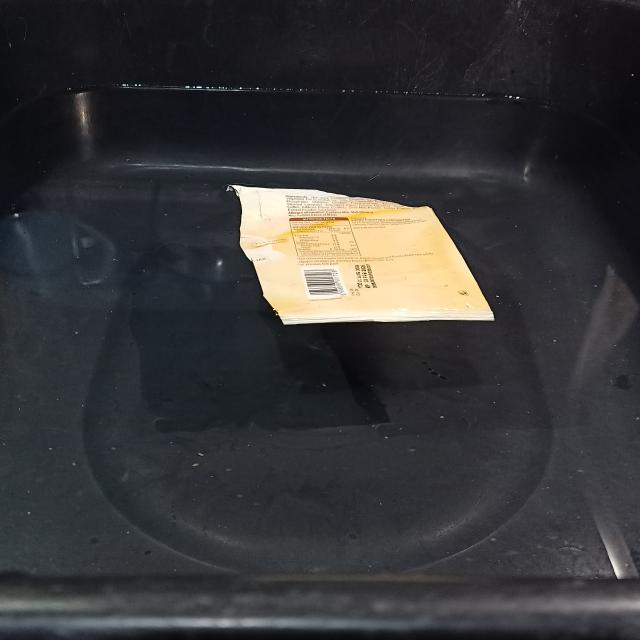Plastic Wrapper: (229, 185, 493, 324)
